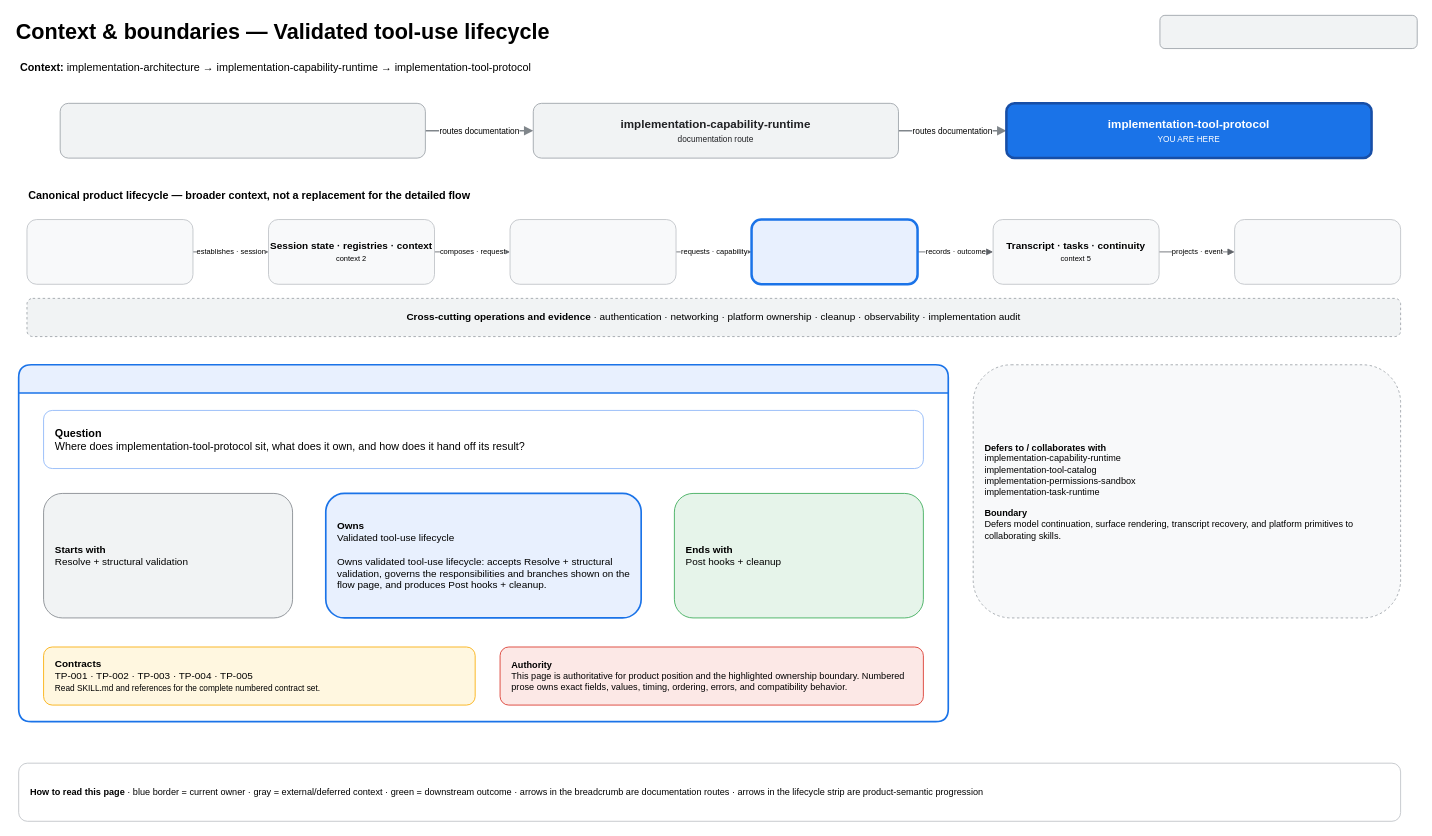
Image size: 1432x836. Some labels were removed from this diagram. The shapes that lost their labels are listed below. From the top down, each one's box as (x1, y1, x2, y2) in pixels, then its label:
(1159, 15, 1417, 49): architecture overview · template 2.0-context-flow
(59, 103, 425, 158): implementation-architecture documentation route
(26, 219, 193, 284): Entrypoint · identity · policy context 1
(509, 219, 676, 284): Query engine · model stream context 3
(750, 218, 918, 285): Capability decision · execution YOU ARE HERE
(1234, 219, 1401, 284): Surface · remote projection context 6
(17, 364, 949, 722): CURRENT OWNERSHIP BOUNDARY
